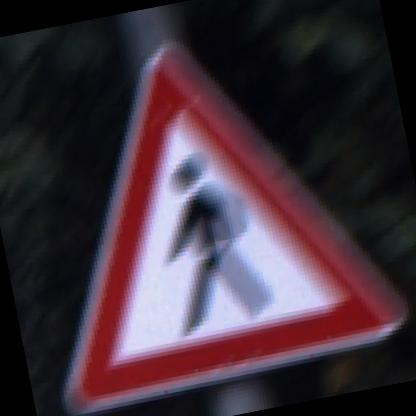crosswalk: (5, 2, 415, 415)
